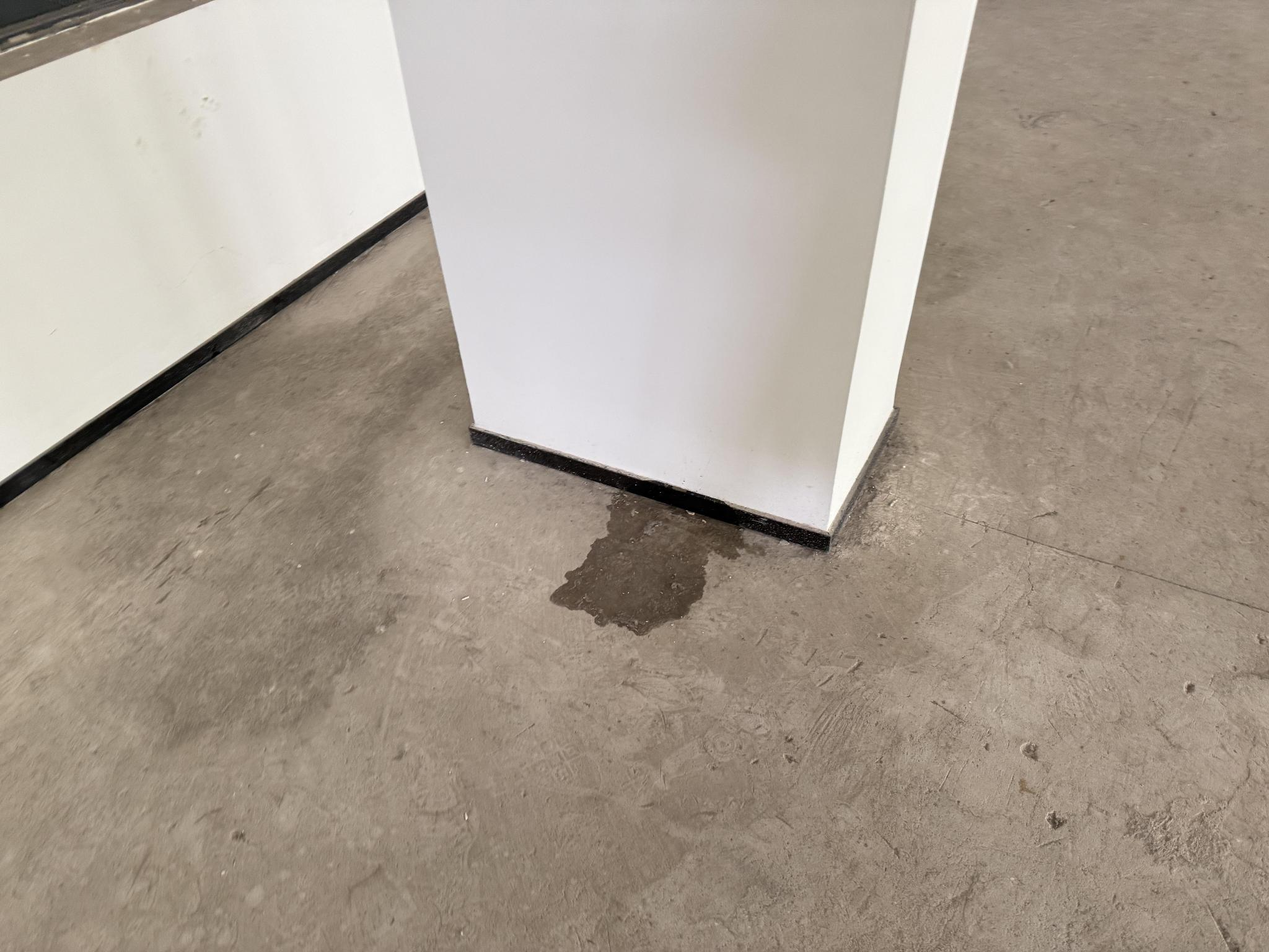water accumulation: (550, 495, 743, 636)
